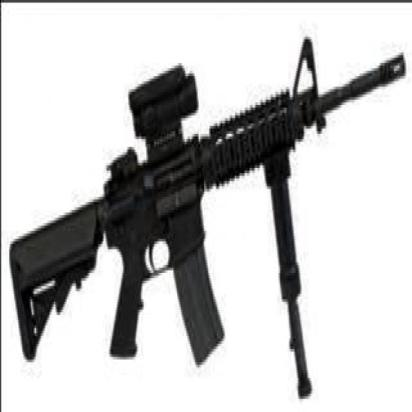Gun: (9, 40, 407, 362)
